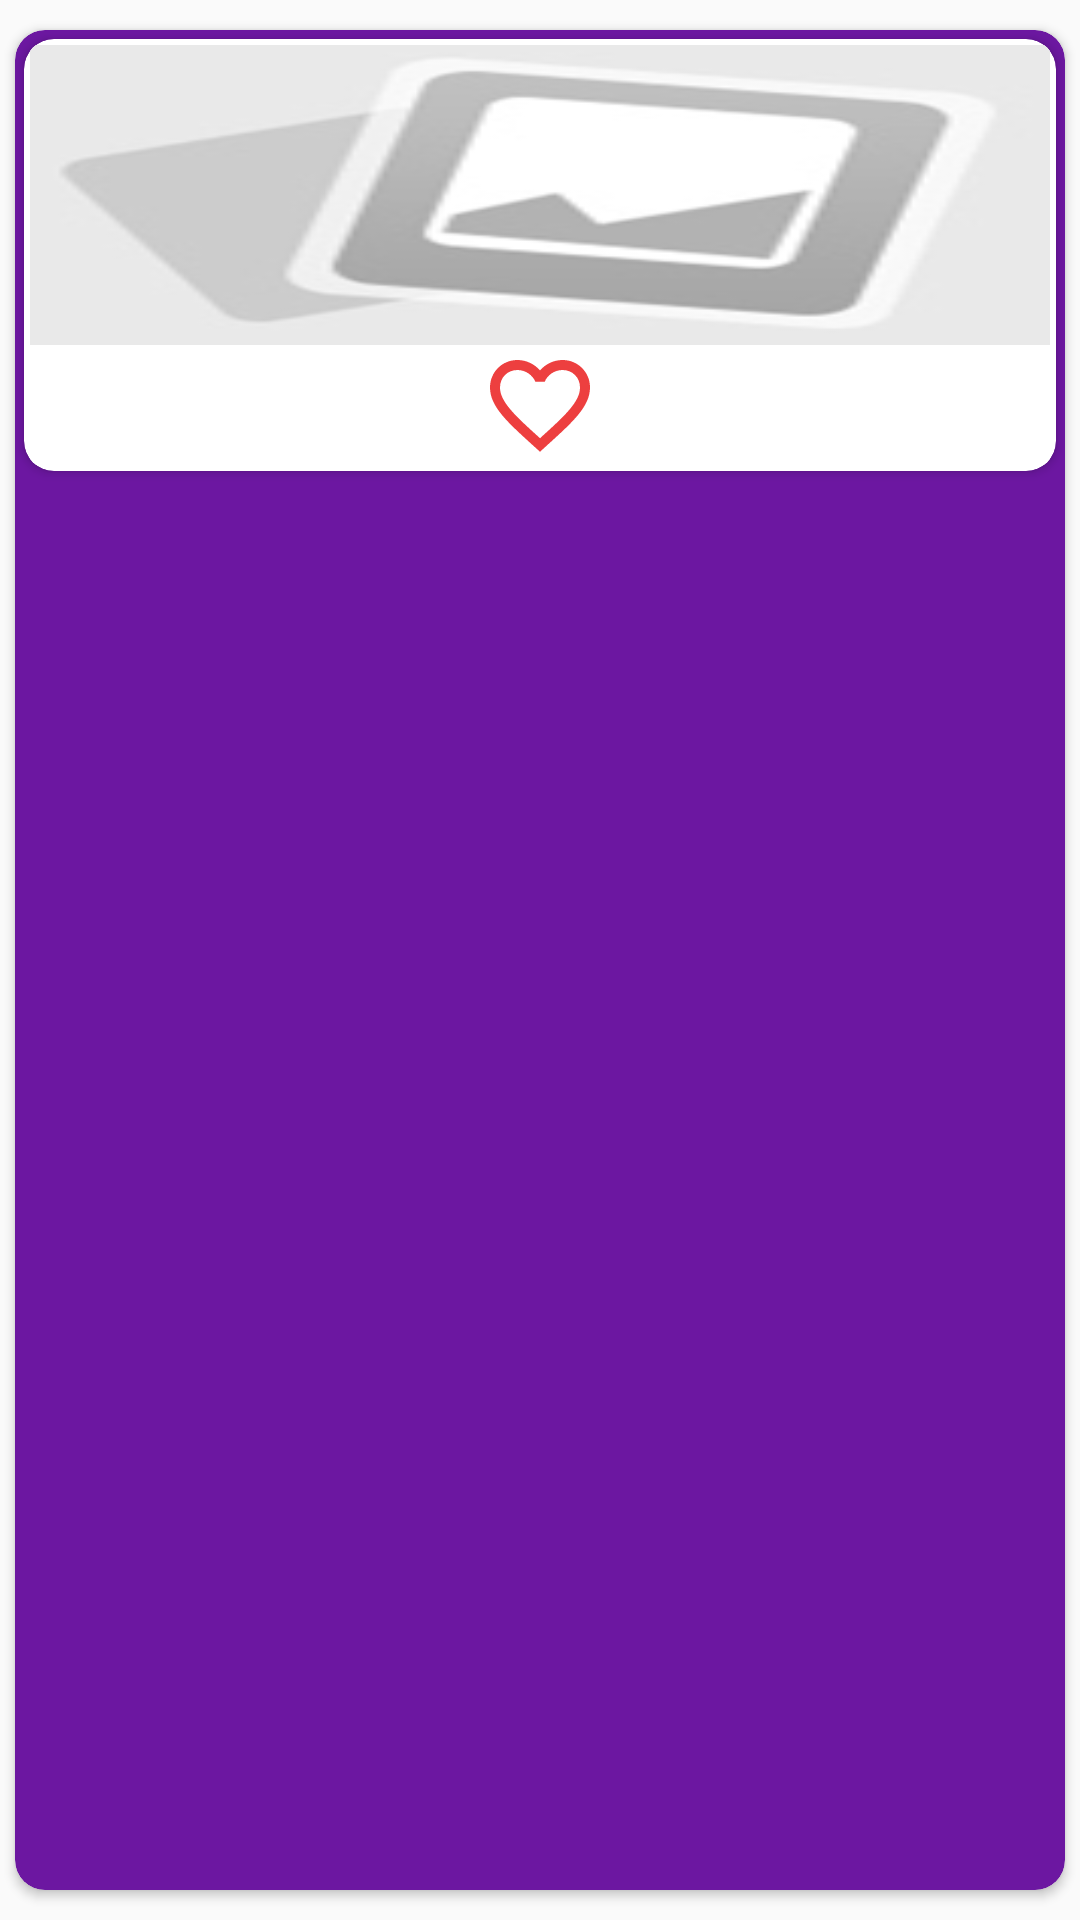

Screen size 1080×1920. Icon name, then its box in pixels as {"left": x1, "top": y1, "right": x2, "bottom": y2}:
not like: {"left": 490, "top": 360, "right": 590, "bottom": 452}
